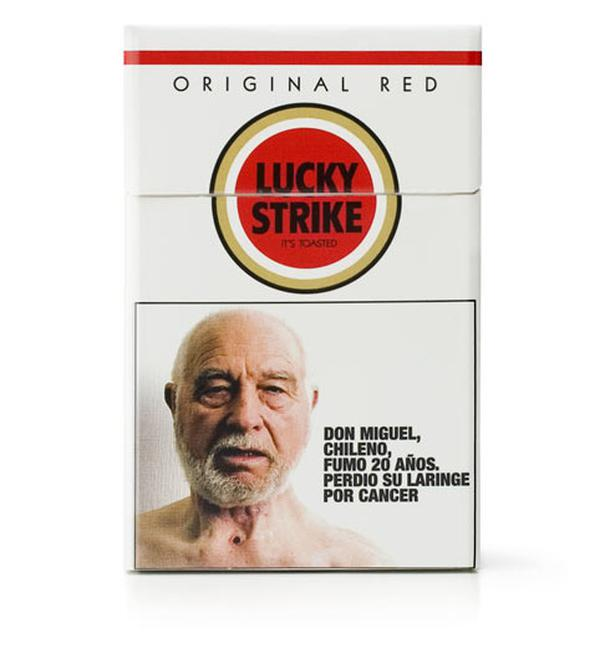lucky_strike_red: (133, 27, 481, 576)
